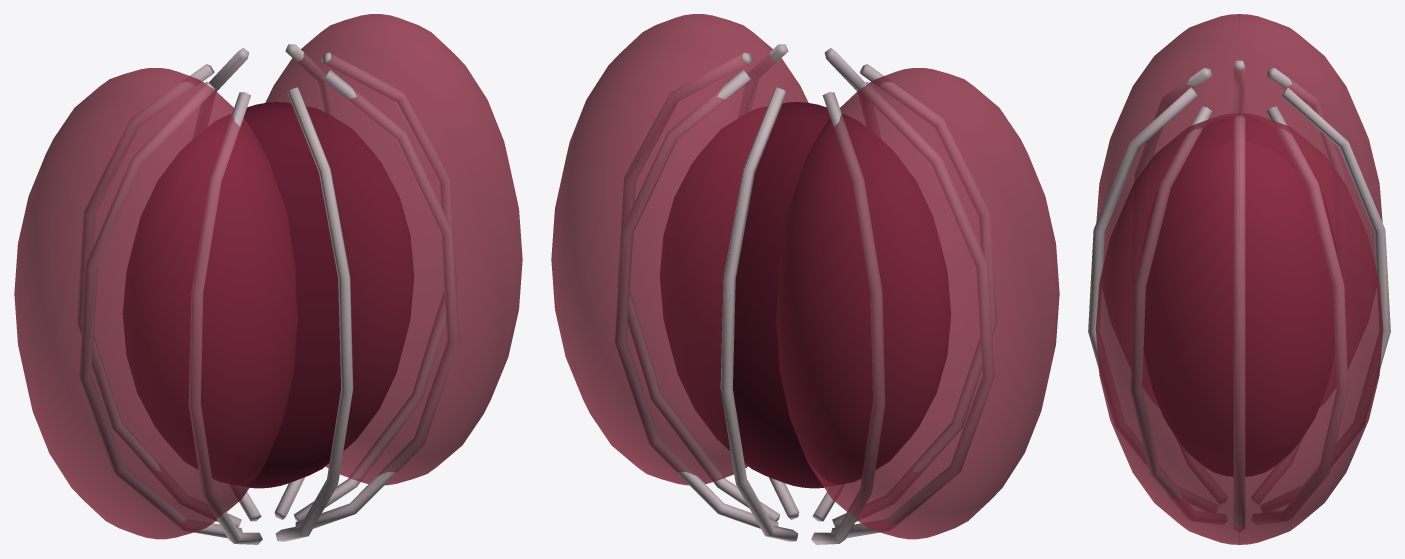
The model's file is bloody-belly-comb-jelly.glb.
3 views of the same model, side by side, from view 1: azimuth 30°, elevation 25°; view 2: azimuth 150°, elevation 25°; view 3: azimuth 270°, elevation 25° (orthographic). The views are drawn at different scales.
Visible parts, largest first — view 1: bloody-belly-comb-jelly; view 2: bloody-belly-comb-jelly; view 3: bloody-belly-comb-jelly.
Part boxes in pixels (box(x1,y1,x2,y2)): bloody-belly-comb-jelly: box(14, 14, 522, 544); bloody-belly-comb-jelly: box(551, 14, 1059, 544); bloody-belly-comb-jelly: box(1088, 14, 1390, 544).
Bounding box in the file's own units: 0.13 × 0.1297 × 0.0801.
